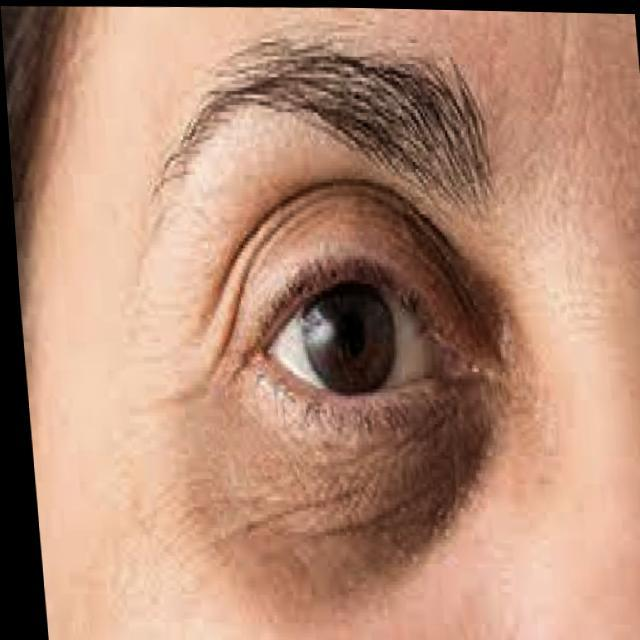Puffy Eyes - v3 Dark Circle: (163, 384, 508, 608)
